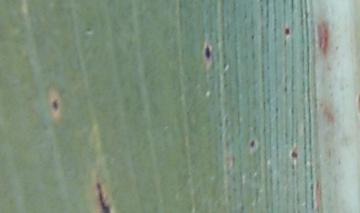tarspot: (96, 182, 111, 213), (205, 45, 211, 59), (282, 26, 291, 35), (52, 100, 59, 111), (290, 150, 298, 159), (250, 139, 256, 148)
